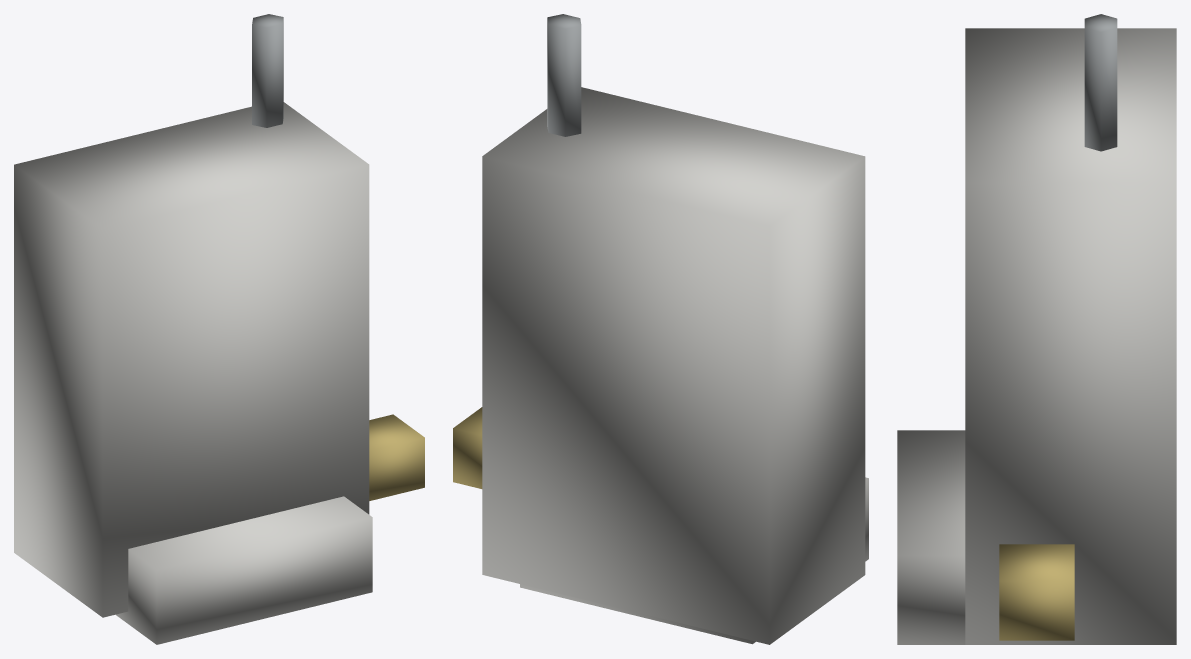
File: urinal_11.glb
The picture shows the model from 3 angles, left to right: view 1: azimuth 30°, elevation 25°; view 2: azimuth 150°, elevation 25°; view 3: azimuth 270°, elevation 25°; orthographic projection. The views are drawn at different scales.
Parts seen in each view (by area): view 1: world; view 2: world; view 3: world.
Boxes of the visible parts, bbox=[...] form: world: bbox=[14, 14, 424, 644]; world: bbox=[453, 14, 868, 644]; world: bbox=[897, 14, 1176, 644].
Bounding box in the file's own units: 0.5512 × 0.8036 × 0.333.
